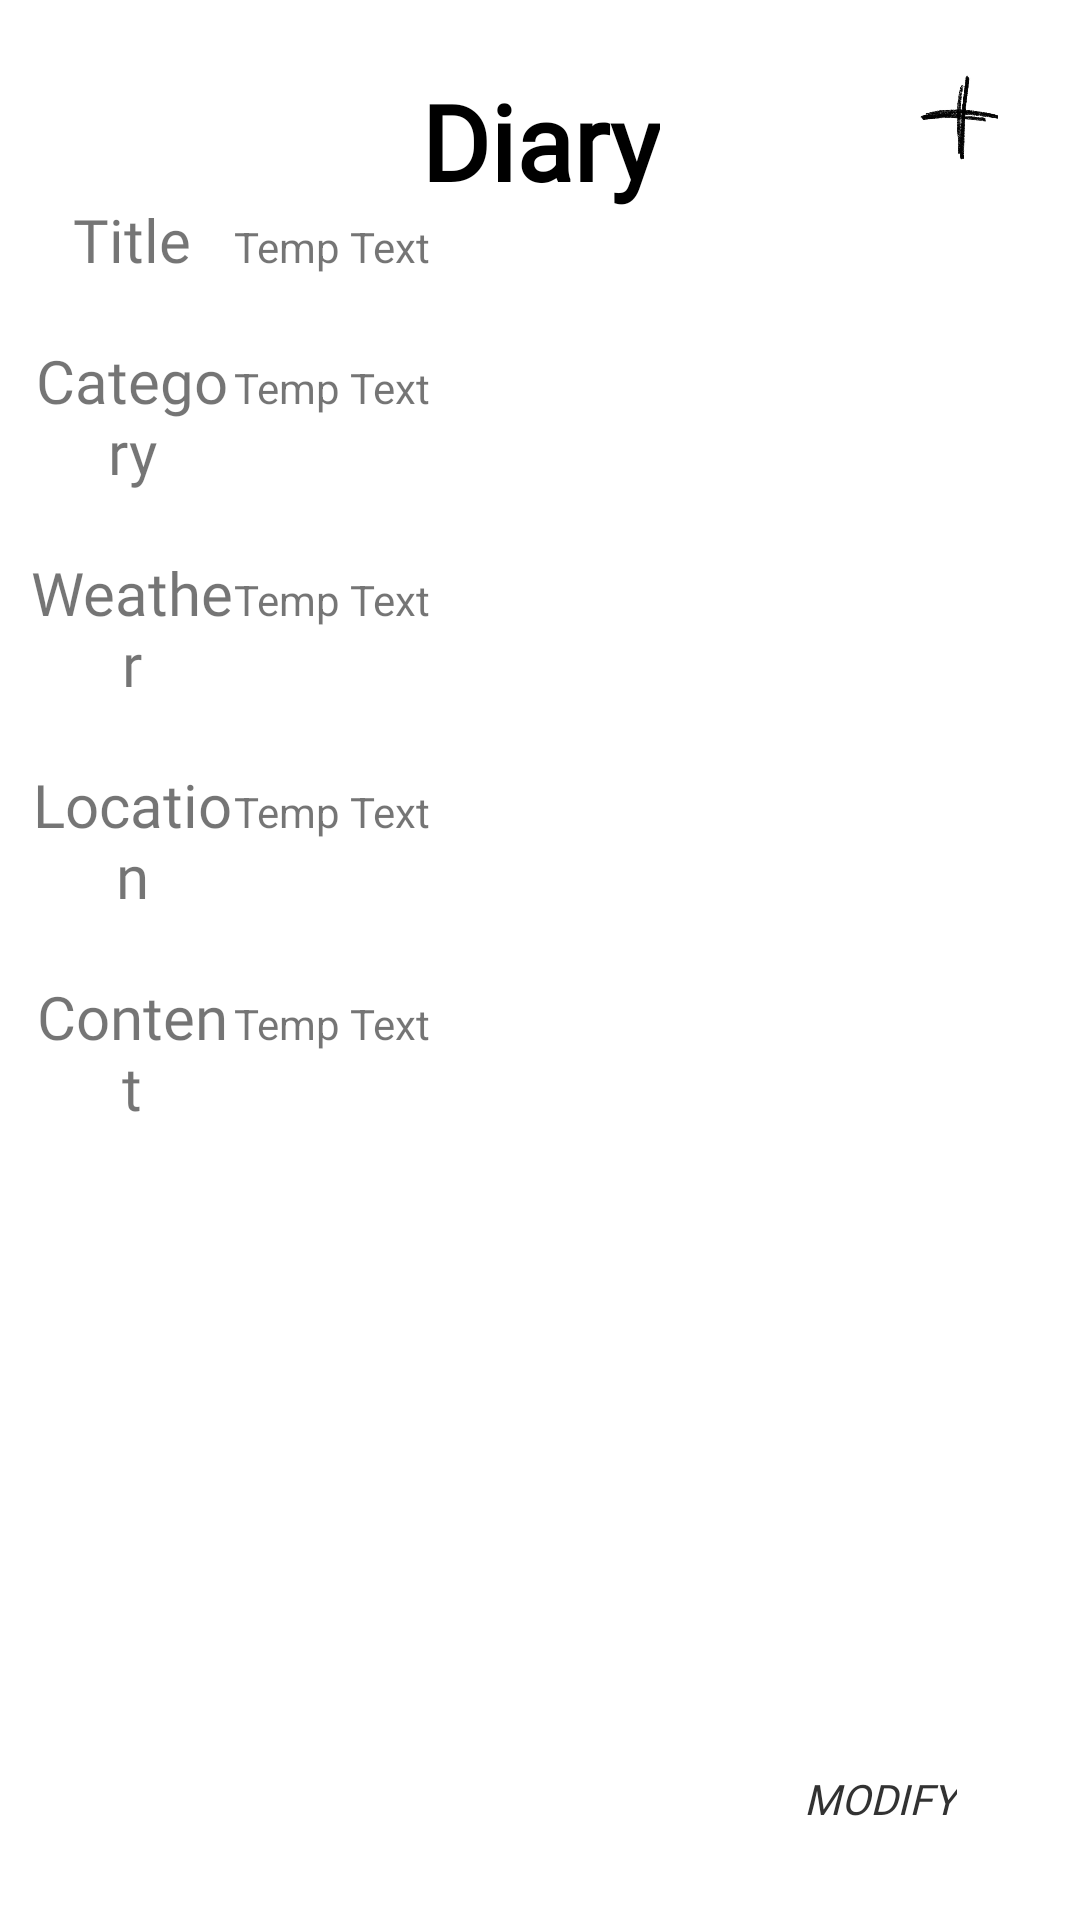

Screen size 1080 x 1920. Icon name, then its center in pixels as (x=x, y=y):
add: (x=959, y=117)
